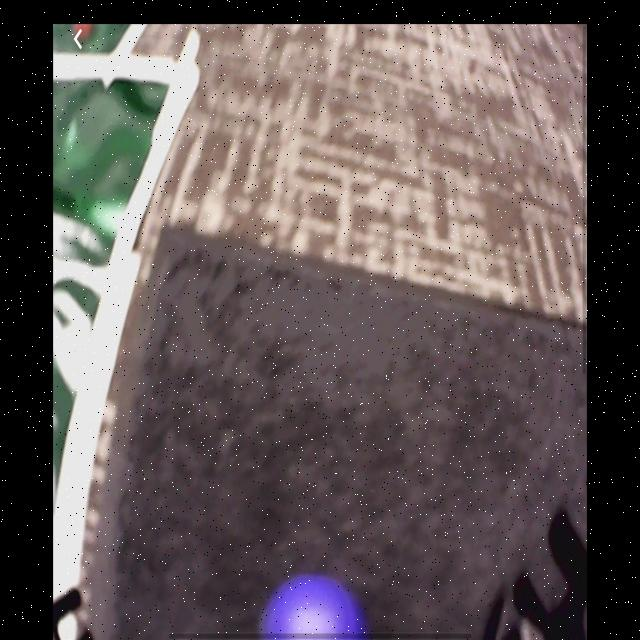ball: (261, 576, 358, 638)
